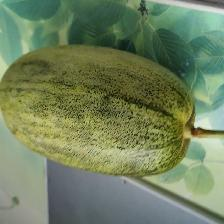gua: (14, 51, 194, 174)
